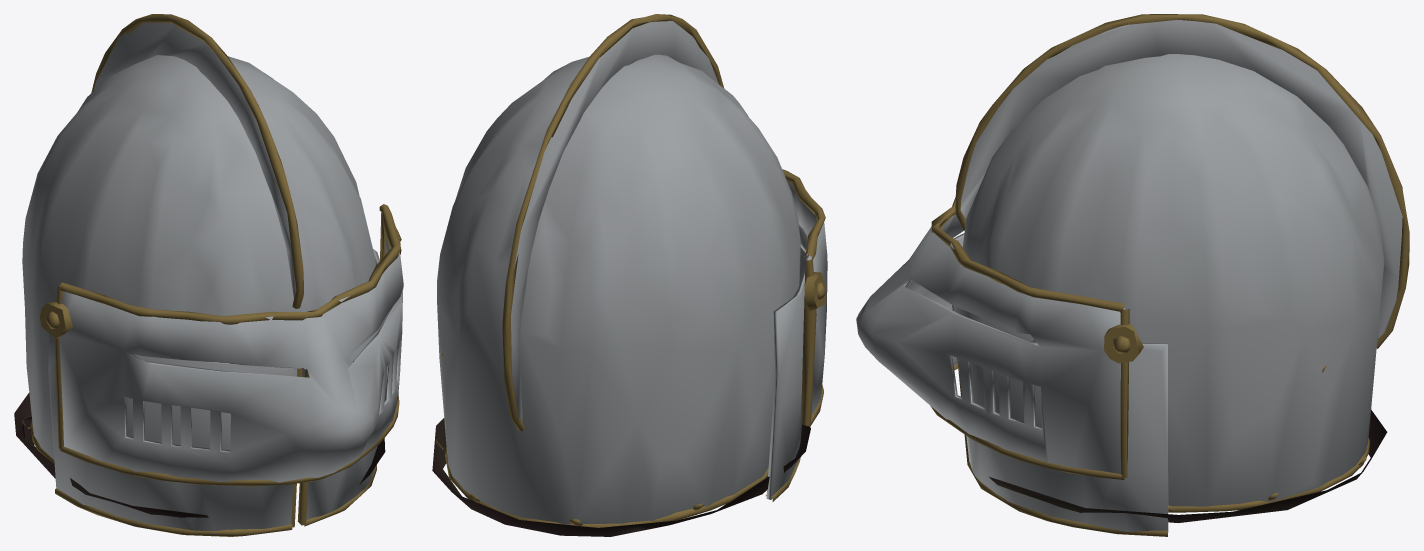
The picture shows the model from 3 angles, left to right: view 1: azimuth 30°, elevation 25°; view 2: azimuth 150°, elevation 25°; view 3: azimuth 270°, elevation 25°; orthographic projection. The views are drawn at different scales.
Visible parts, largest first — view 1: polished fluted plate, quilted linen lining; view 2: polished fluted plate, quilted linen lining; view 3: polished fluted plate, quilted linen lining.
Boxes of the visible parts, <box> form: polished fluted plate: <box>21,14,403,536</box>; quilted linen lining: <box>14,392,385,517</box>; polished fluted plate: <box>435,14,827,527</box>; quilted linen lining: <box>432,418,810,536</box>; polished fluted plate: <box>856,14,1409,536</box>; quilted linen lining: <box>989,409,1387,522</box>.
Size of the model in its own units: 0.2571 by 0.2997 by 0.3354.
